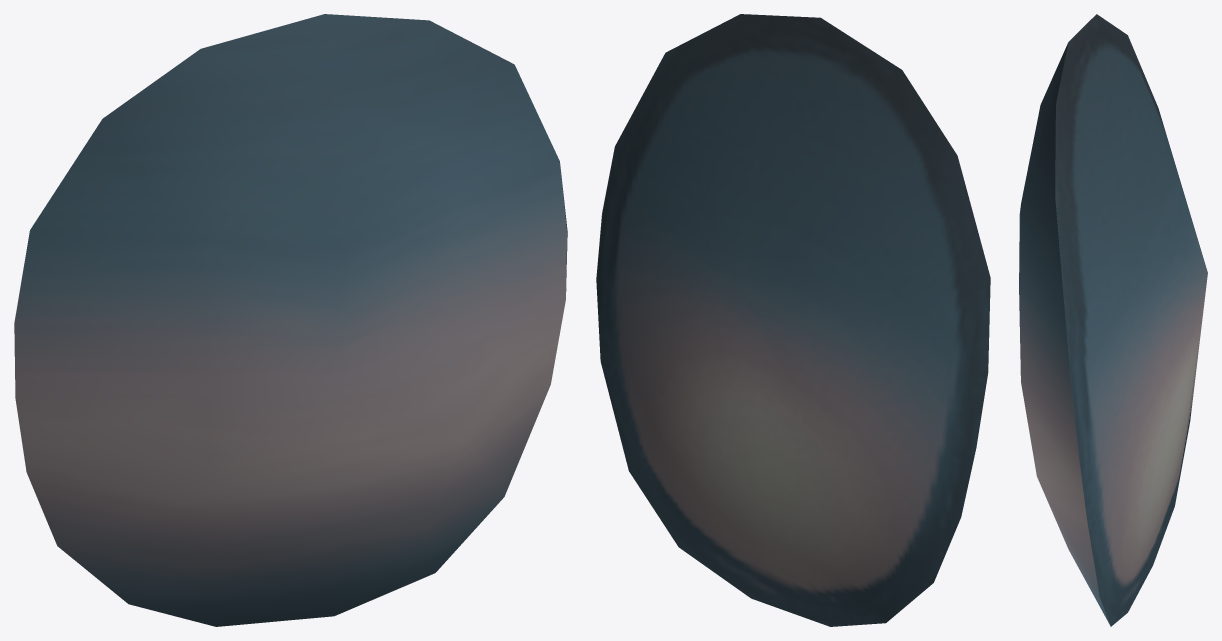
File: Eye_03_R.fbx
3 renders of one model, left to right at view 1: azimuth 30°, elevation 25°; view 2: azimuth 150°, elevation 25°; view 3: azimuth 270°, elevation 25°, orthographic. The views are drawn at different scales.
Parts seen in each view (by area): view 1: Eye_03_R_Cover; view 2: Eye_03_R; view 3: Eye_03_R, Eye_03_R_Cover.
Boxes of the visible parts, x1=… form: Eye_03_R_Cover: x1=14, y1=14, x2=566, y2=626; Eye_03_R: x1=596, y1=14, x2=990, y2=626; Eye_03_R: x1=1055, y1=14, x2=1207, y2=626; Eye_03_R_Cover: x1=1019, y1=43, x2=1110, y2=626.
Bounding box in the file's own units: 4.92 × 6.05 × 1.88.
